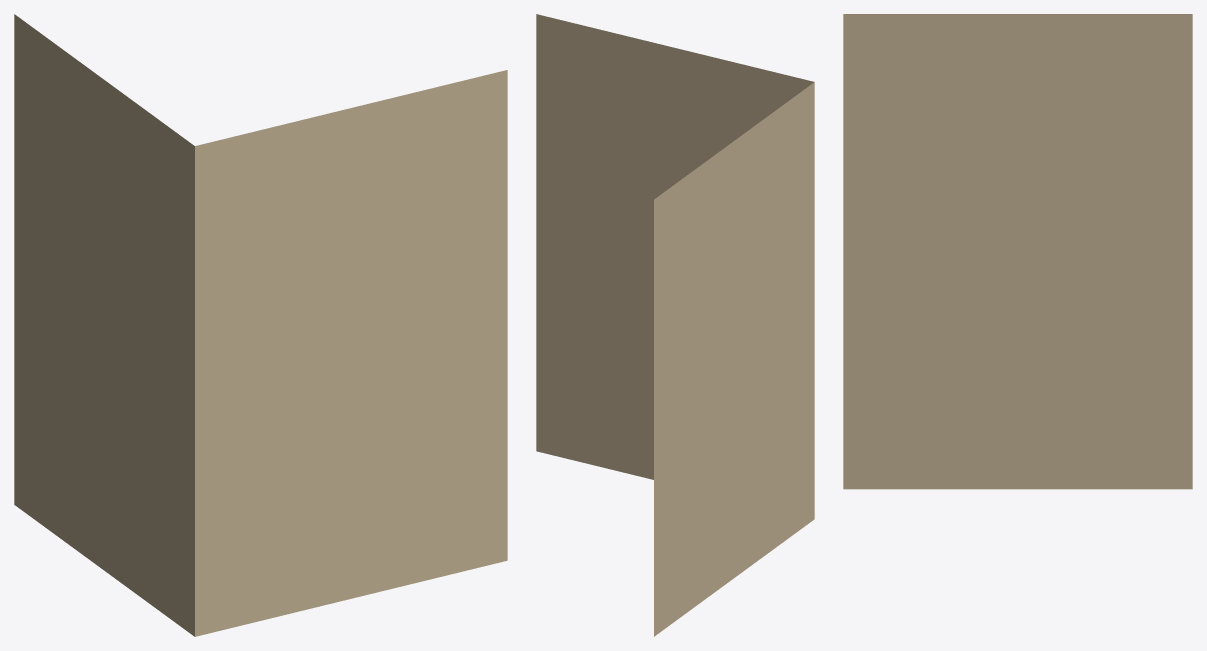
Rendered from OuterCorner.glb.
The picture shows the model from 3 angles, left to right: view 1: azimuth 30°, elevation 25°; view 2: azimuth 150°, elevation 25°; view 3: azimuth 270°, elevation 25°; orthographic projection. The views are drawn at different scales.
Visible parts, largest first — view 1: PBK_Indochine_OuterCorner_Exterior_Surface.001; view 2: PBK_Indochine_OuterCorner_Exterior_Surface.001; view 3: PBK_Indochine_OuterCorner_Exterior_Surface.001.
Boxes of the visible parts, bbox=[...] form: PBK_Indochine_OuterCorner_Exterior_Surface.001: bbox=[14, 14, 507, 636]; PBK_Indochine_OuterCorner_Exterior_Surface.001: bbox=[536, 14, 814, 636]; PBK_Indochine_OuterCorner_Exterior_Surface.001: bbox=[843, 14, 1192, 489].
Bounding box in the file's own units: 2 × 3 × 2.
